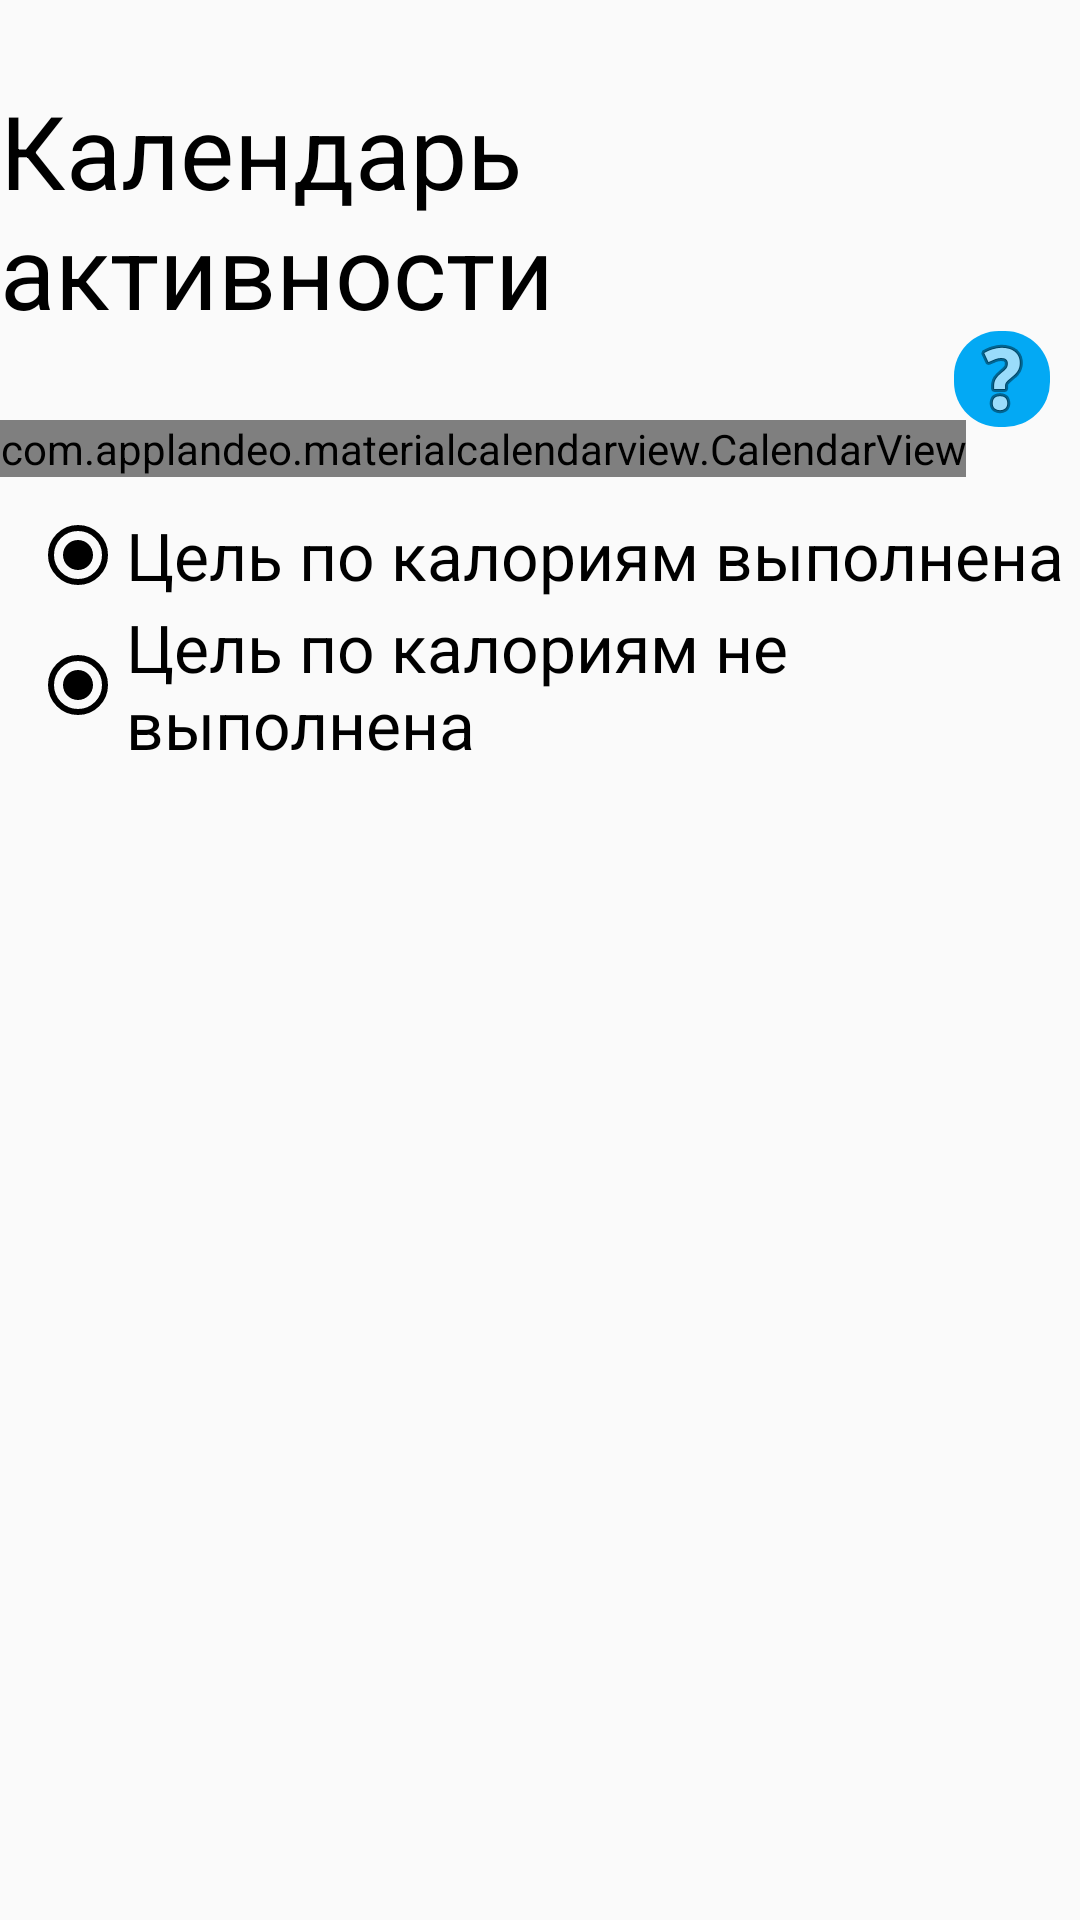

Screen size 1080 x 1920. Icon name, then its center in pixels as (x,y):
help: (1002,379)
